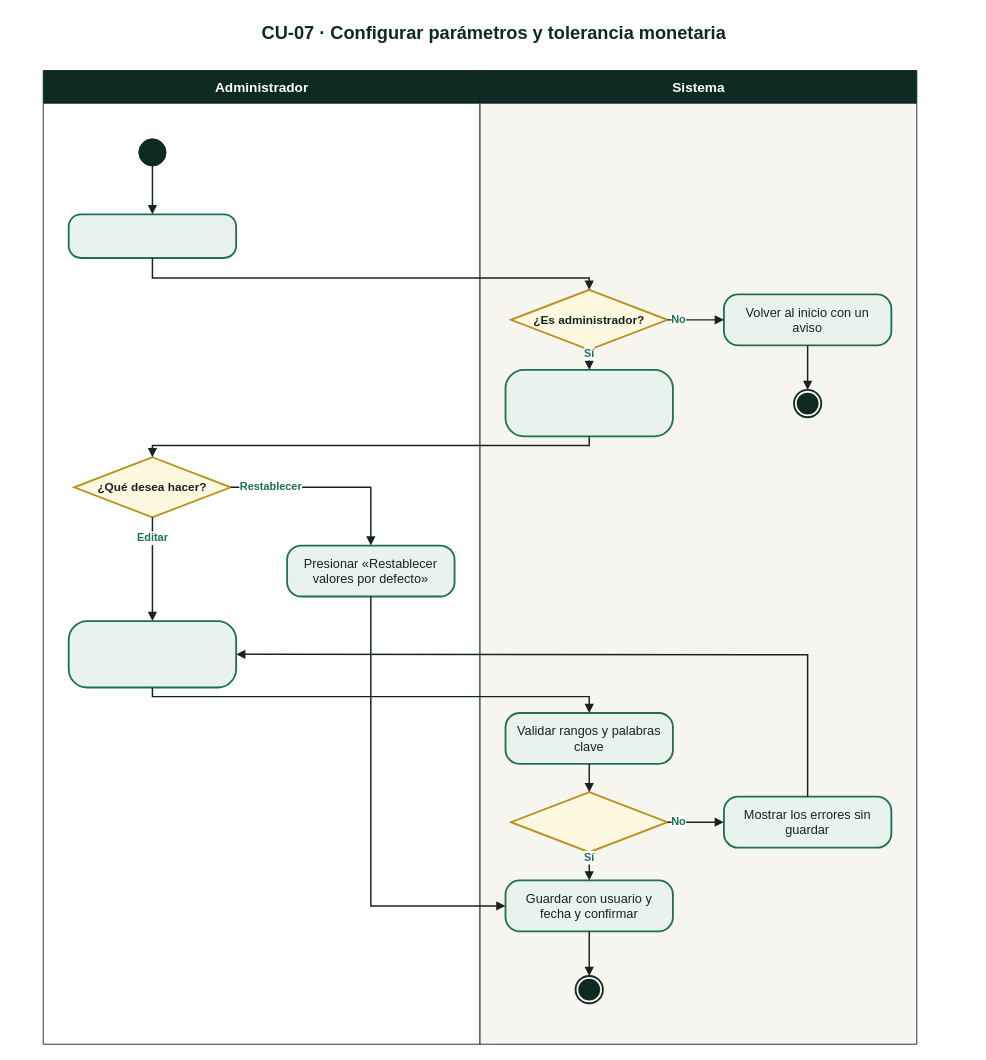
This 986x1060 diagram has some shape labels left out. The shapes that lost their labels are listed below. From the top down, each one's centre as x and y in pixels, then its label:
At pixel 152 235: "Abrir Configuración".
At pixel 588 403: "Mostrar valores vigentes, quién y cuándo los cambió".
At pixel 152 654: "Modificar tolerancias, ventana de días y palabras clave".
At pixel 589 822: "¿Valores válidos?".
